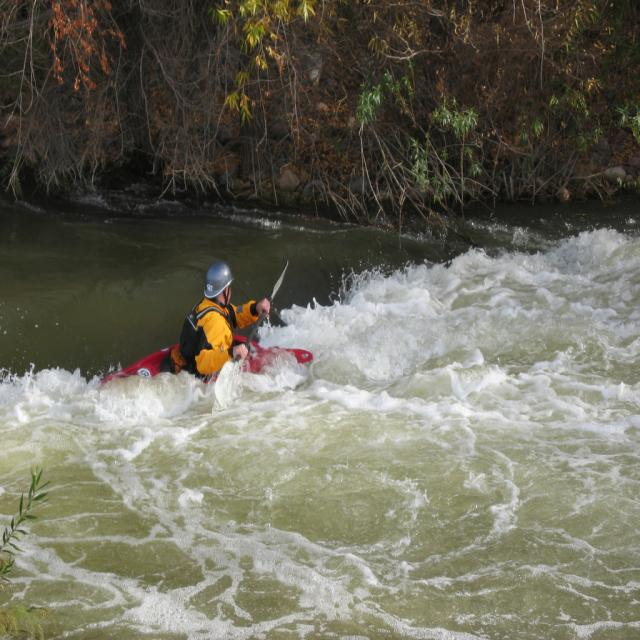Boat: (110, 338, 312, 384)
